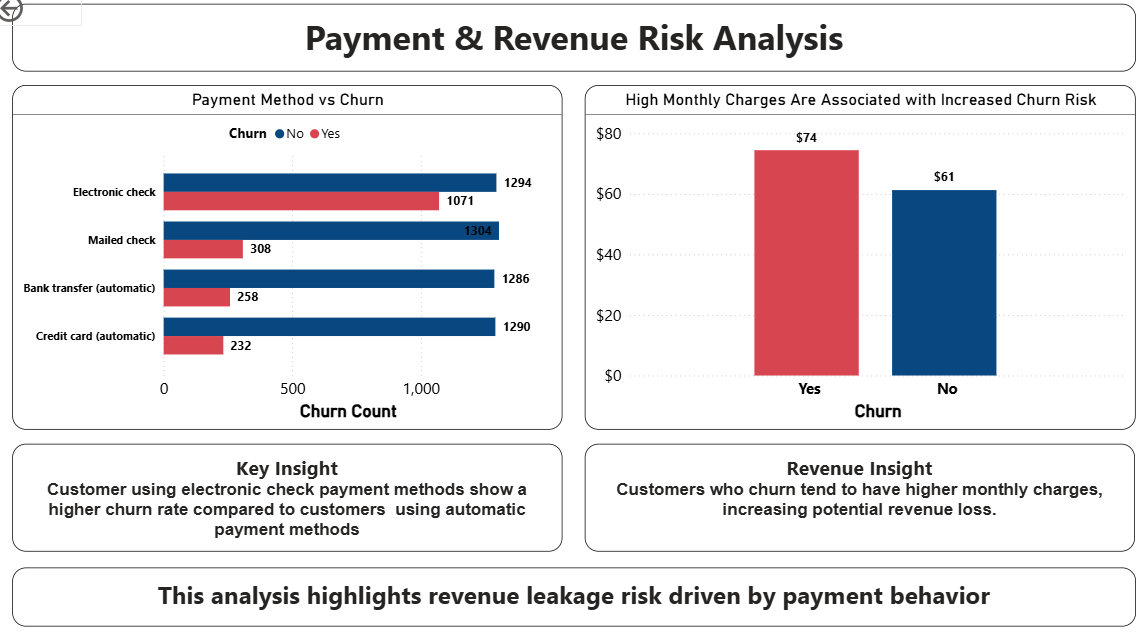

The dashboard page shown, as its layout file describes it:
{"tool":"powerbi","page":{"name":"Payment & Revenue Risk","canvas":[1280,720],"ordinal":2},"visuals":[{"type":"textbox","box":[23.3,15.1,1233.6,74.1],"z":0},{"type":"clusteredBarChart","title":"Payment Method vs Churn","fields":{"Category":["cleaned_churn.PaymentMethod"],"Y":["CountNonNull(cleaned_churn.Churn)"],"Series":["cleaned_churn.Churn"]},"box":[23.3,104.3,603.8,378.7],"z":1000},{"type":"clusteredColumnChart","title":"High Monthly Charges Are Associated with Increased Churn Risk","fields":{"Category":["cleaned_churn.Churn"],"Y":["Avg(cleaned_churn.MonthlyCharges)"]},"box":[651.8,104.3,605.1,378.7],"z":2000},{"type":"actionButton","box":[0,0,100,40],"z":3000},{"type":"textbox","box":[23.3,498.1,603.8,118],"z":4000},{"type":"textbox","box":[651.8,498.1,603.8,118],"z":5000},{"type":"textbox","box":[23.3,634,1233.6,64.5],"z":6000}]}

Visuals, with their boxes in screenshot pixels (x1, y1, x2, y2), scaled from the page's 1280x720 canvas onto the 1142x633 screenshot:
textbox: 21 13 1121 78
"Payment Method vs Churn" clusteredBarChart: 21 92 559 425
"High Monthly Charges Are Associated with Increased Churn Risk" clusteredColumnChart: 582 92 1121 425
actionButton: 0 0 89 35
textbox: 21 438 559 542
textbox: 582 438 1120 542
textbox: 21 557 1121 614
